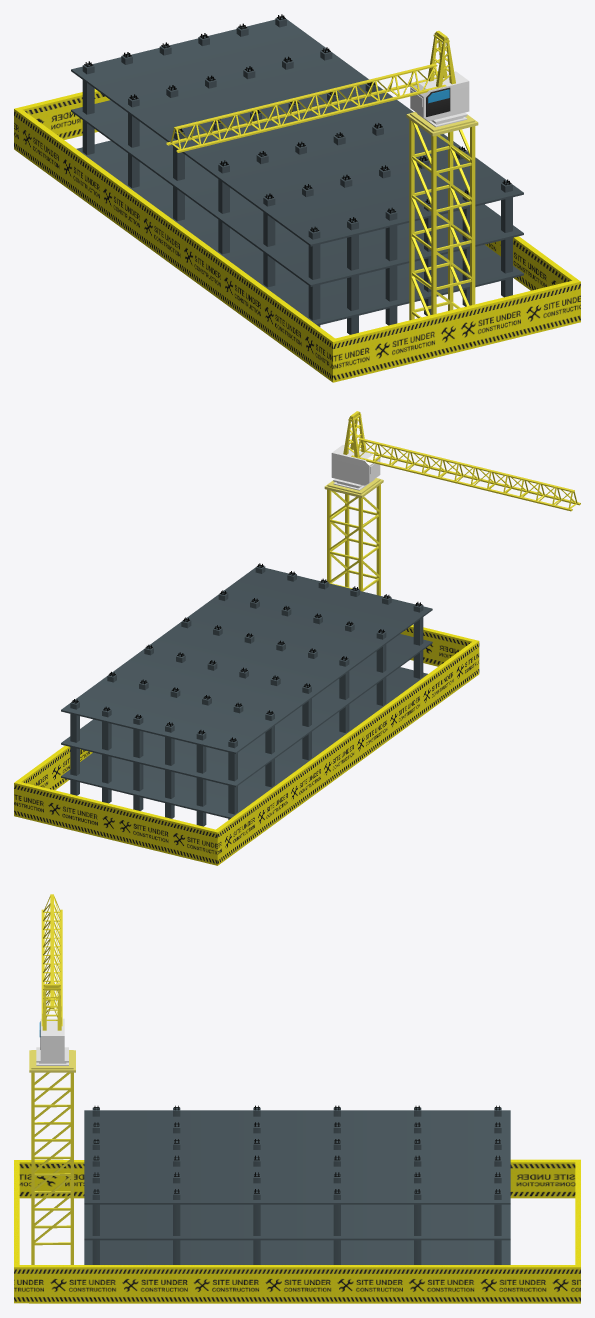
Rendered from Construction.fbx.
3 views of the same model, one above another, from view 1: azimuth 30°, elevation 25°; view 2: azimuth 150°, elevation 25°; view 3: azimuth 270°, elevation 25° (orthographic). The views are drawn at different scales.
Visible parts, largest first — view 1: PlaceContruction_LOD0, GateConstruction, Crane1, Crane2_LOD0; view 2: PlaceContruction_LOD0, GateConstruction, Crane2_LOD0, Crane1; view 3: PlaceContruction_LOD0, GateConstruction, Crane1, Crane2_LOD0.
Part boxes in pixels (left/top/right/bottom): PlaceContruction_LOD0: left=71, top=14, right=523, bottom=334; GateConstruction: left=14, top=89, right=580, bottom=382; Crane1: left=406, top=112, right=478, bottom=320; Crane2_LOD0: left=166, top=30, right=469, bottom=152; PlaceContruction_LOD0: left=61, top=563, right=432, bottom=826; GateConstruction: left=14, top=625, right=479, bottom=865; Crane2_LOD0: left=331, top=411, right=580, bottom=511; Crane1: left=324, top=478, right=383, bottom=595; PlaceContruction_LOD0: left=84, top=1105, right=510, bottom=1264; GateConstruction: left=14, top=1159, right=580, bottom=1303; Crane1: left=29, top=1050, right=75, bottom=1264; Crane2_LOD0: left=36, top=894, right=68, bottom=1065.
Size of what is drawn, in the model's own units: 4300 by 3232 by 6133.
